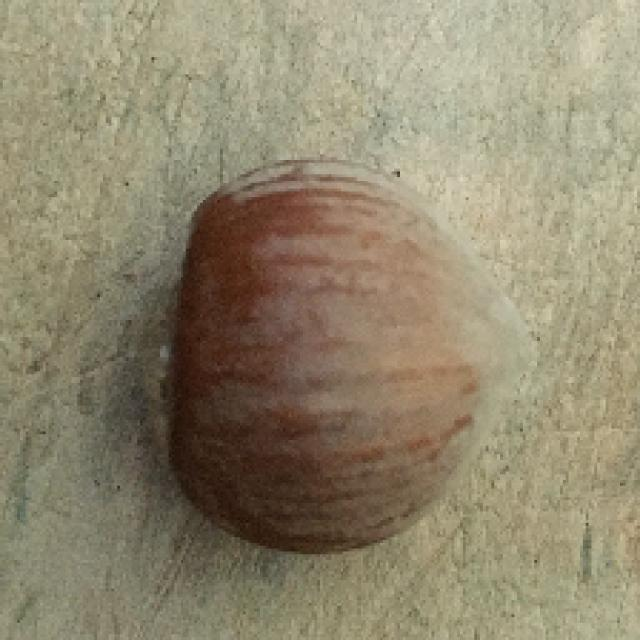QualityHazelnut: (143, 156, 544, 553)
